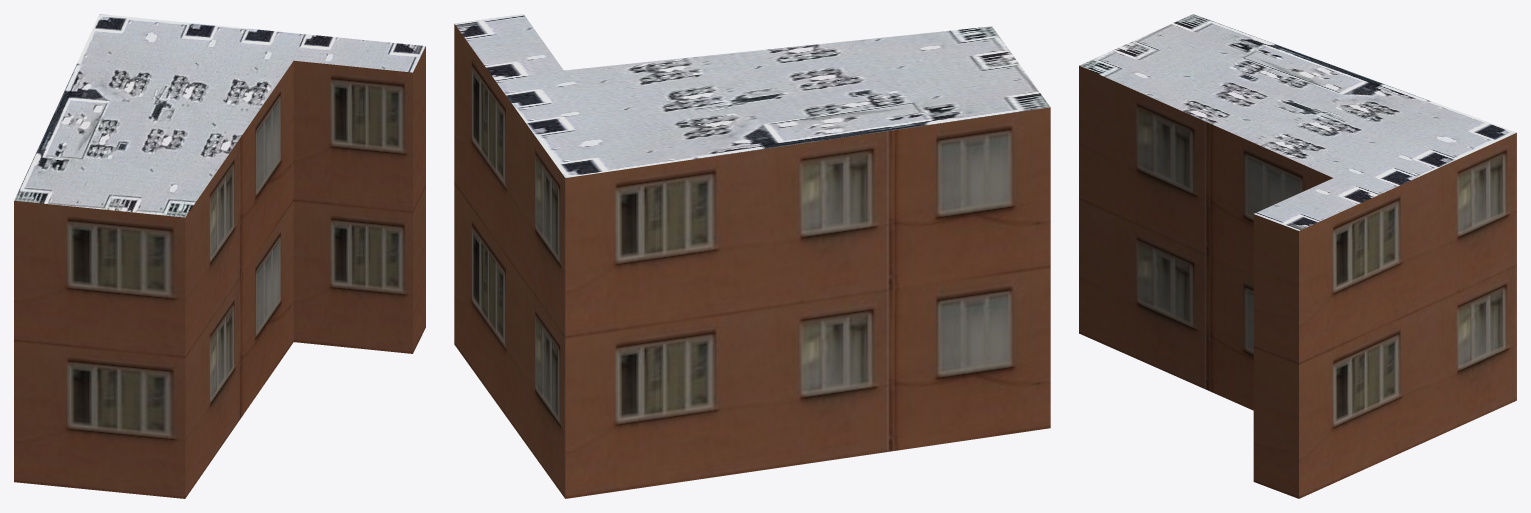
The model's file is ResTex__2793.fbx.
The picture shows the model from 3 angles, left to right: view 1: azimuth 30°, elevation 25°; view 2: azimuth 150°, elevation 25°; view 3: azimuth 270°, elevation 25°; orthographic projection. The views are drawn at different scales.
Parts seen in each view (by area): view 1: CityEngineMaterial_20_m, CityEngineMaterial_m; view 2: CityEngineMaterial_20_m, CityEngineMaterial_m; view 3: CityEngineMaterial_20_m, CityEngineMaterial_m.
Part boxes in pixels (x1=…): CityEngineMaterial_20_m: x1=14, y1=46, x2=425, y2=498; CityEngineMaterial_m: x1=14, y1=14, x2=425, y2=217; CityEngineMaterial_20_m: x1=454, y1=24, x2=1050, y2=498; CityEngineMaterial_m: x1=455, y1=14, x2=1049, y2=177; CityEngineMaterial_20_m: x1=1079, y1=65, x2=1516, y2=498; CityEngineMaterial_m: x1=1079, y1=14, x2=1516, y2=230.
Size of the model in its own units: 10.43 by 6 by 8.89.
2 materials, 2 textured.
